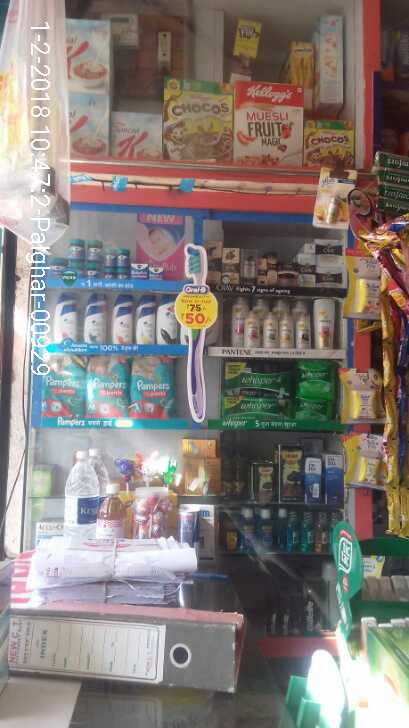vicks: (50, 236, 161, 284)
